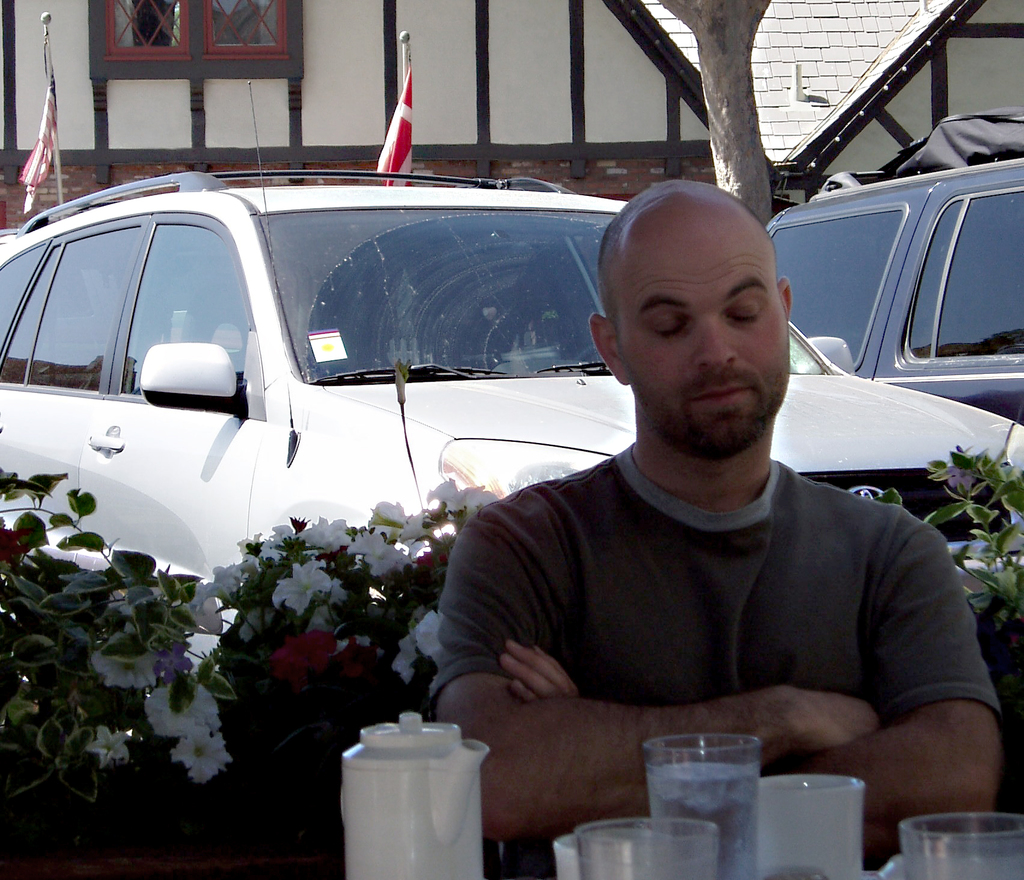Car: (0, 81, 1023, 741), (760, 162, 1023, 420)
